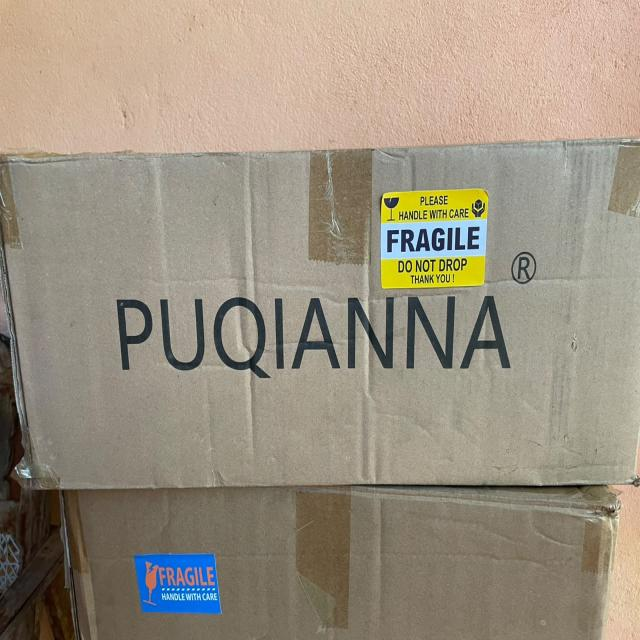carton_box: (0, 129, 640, 640), (52, 483, 640, 640)
fragile_label: (368, 172, 501, 301), (129, 536, 233, 630)
package_damage: (0, 183, 46, 494), (580, 480, 631, 543)
